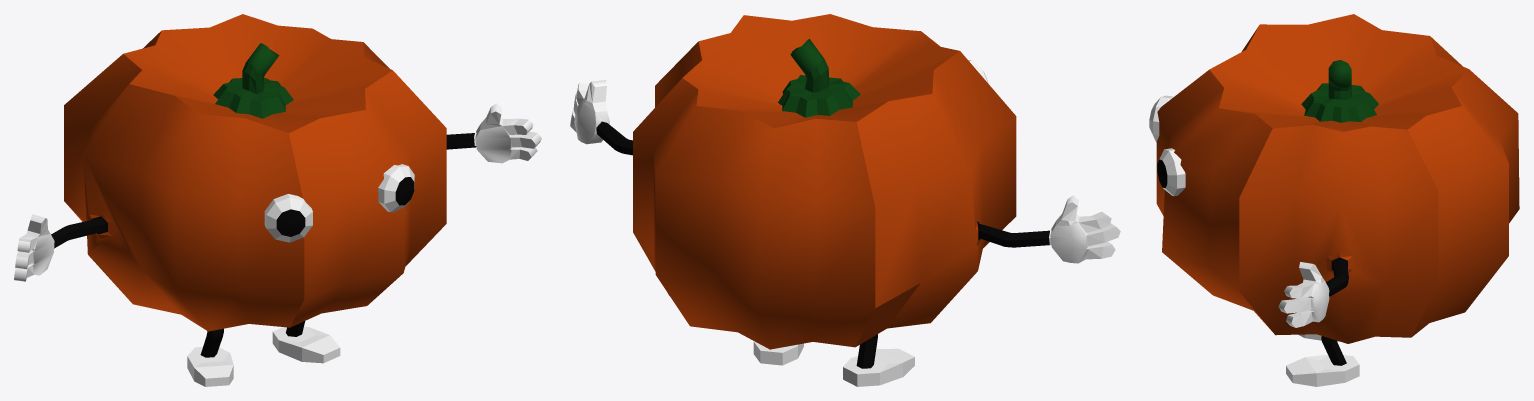
The model's file is Courge.FBX.
The picture shows the model from 3 angles, left to right: view 1: azimuth 30°, elevation 25°; view 2: azimuth 150°, elevation 25°; view 3: azimuth 270°, elevation 25°; orthographic projection. The views are drawn at different scales.
Parts seen in each view (by area): view 1: Box003; view 2: Box003; view 3: Box003.
Part boxes in pixels (x1=…): Box003: x1=14, y1=14, x2=541, y2=386; Box003: x1=570, y1=14, x2=1120, y2=386; Box003: x1=1149, y1=14, x2=1519, y2=386.
Size of the model in its own units: 234 by 132 by 147.
